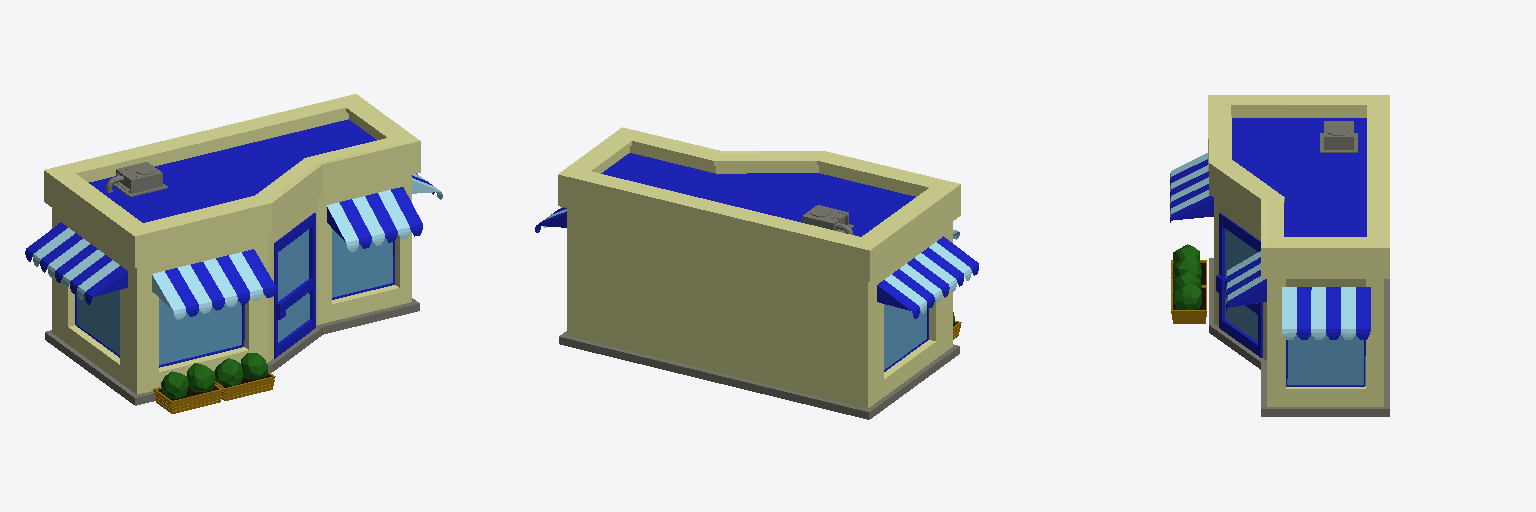
File: shop.obj
The picture shows the model from 3 angles: view 1: azimuth 30°, elevation 25°; view 2: azimuth 150°, elevation 25°; view 3: azimuth 270°, elevation 25°; orthographic projection.
Parts seen in each view (by area): view 1: shop1:group1 group shop1:casaFBXASC032base, shop1:tetto shop1:group1 group, shop1:group1 group shop1:tendaFBXASC032frontale, shop1:group1 group shop1:porta, shop1:group1 group shop1:tendaFBXASC032frontaleFBXASC046001, shop1:group1 group shop1:tendaFBXASC032frontaleFBXASC032piccola, shop1:group1 group shop1:finestraFBXASC032frontaleFBXASC032sx, shop1:group1 group shop1:finestraFBXASC032dx, shop1:group1 group shop1:baseFBXASC046001, shop1:group1 group shop1:finestraFBXASC032sx, shop1:group1 group shop1:vasoFBXASC032rettangolareFBXASC032sxFBX, shop1:group1 group shop1:cassetta (+4 smaller); view 2: shop1:group1 group shop1:casaFBXASC032base, shop1:tetto shop1:group1 group, shop1:group1 group shop1:baseFBXASC046001, shop1:group1 group shop1:tendaFBXASC032frontaleFBXASC046001, shop1:group1 group shop1:finestraFBXASC032sx, shop1:group1 group shop1:cassetta; view 3: shop1:group1 group shop1:casaFBXASC032base, shop1:tetto shop1:group1 group, shop1:group1 group shop1:tendaFBXASC032frontaleFBXASC032facciata, shop1:group1 group shop1:finestraFBXASC032facciataFBXASC032dx, shop1:group1 group shop1:porta, shop1:group1 group shop1:baseFBXASC046001, shop1:group1 group shop1:tendaFBXASC032frontale, shop1:group1 group shop1:tendaFBXASC032frontaleFBXASC032piccola, shop1:group1 group shop1:vasoFBXASC032rettangolareFBXASC032sxFBX, shop1:group1 group shop1:cassetta, shop1:group1 group shop1:IcosphereFBXASC046002.
Boxes of the visible parts, x1=… form: shop1:group1 group shop1:casaFBXASC032base: x1=44, y1=94, x2=420, y2=394; shop1:tetto shop1:group1 group: x1=89, y1=119, x2=376, y2=222; shop1:group1 group shop1:tendaFBXASC032frontale: x1=152, y1=249, x2=275, y2=319; shop1:group1 group shop1:porta: x1=274, y1=213, x2=315, y2=358; shop1:group1 group shop1:tendaFBXASC032frontaleFBXASC046001: x1=25, y1=222, x2=127, y2=304; shop1:group1 group shop1:tendaFBXASC032frontaleFBXASC032piccola: x1=327, y1=187, x2=422, y2=251; shop1:group1 group shop1:finestraFBXASC032frontaleFBXASC032sx: x1=159, y1=298, x2=244, y2=367; shop1:group1 group shop1:finestraFBXASC032dx: x1=332, y1=229, x2=394, y2=299; shop1:group1 group shop1:baseFBXASC046001: x1=45, y1=298, x2=419, y2=405; shop1:group1 group shop1:finestraFBXASC032sx: x1=75, y1=290, x2=119, y2=357; shop1:group1 group shop1:vasoFBXASC032rettangolareFBXASC032sxFBX: x1=153, y1=371, x2=275, y2=413; shop1:group1 group shop1:cassetta: x1=116, y1=162, x2=162, y2=193; shop1:group1 group shop1:casaFBXASC032base: x1=558, y1=127, x2=960, y2=408; shop1:tetto shop1:group1 group: x1=601, y1=153, x2=915, y2=236; shop1:group1 group shop1:baseFBXASC046001: x1=559, y1=331, x2=959, y2=419; shop1:group1 group shop1:tendaFBXASC032frontaleFBXASC046001: x1=877, y1=236, x2=978, y2=318; shop1:group1 group shop1:finestraFBXASC032sx: x1=884, y1=304, x2=928, y2=371; shop1:group1 group shop1:cassetta: x1=802, y1=205, x2=848, y2=231; shop1:group1 group shop1:casaFBXASC032base: x1=1208, y1=95, x2=1389, y2=406; shop1:tetto shop1:group1 group: x1=1232, y1=118, x2=1366, y2=236; shop1:group1 group shop1:tendaFBXASC032frontaleFBXASC032facciata: x1=1282, y1=287, x2=1370, y2=339; shop1:group1 group shop1:finestraFBXASC032facciataFBXASC032dx: x1=1286, y1=334, x2=1365, y2=386; shop1:group1 group shop1:porta: x1=1216, y1=213, x2=1262, y2=357; shop1:group1 group shop1:baseFBXASC046001: x1=1209, y1=258, x2=1389, y2=416; shop1:group1 group shop1:tendaFBXASC032frontale: x1=1170, y1=153, x2=1213, y2=222; shop1:group1 group shop1:tendaFBXASC032frontaleFBXASC032piccola: x1=1226, y1=251, x2=1266, y2=310; shop1:group1 group shop1:vasoFBXASC032rettangolareFBXASC032sxFBX: x1=1171, y1=260, x2=1206, y2=323; shop1:group1 group shop1:cassetta: x1=1324, y1=121, x2=1353, y2=149; shop1:group1 group shop1:IcosphereFBXASC046002: x1=1173, y1=284, x2=1201, y2=309.
Size of the model in its own units: 38.33 by 16.67 by 19.47.